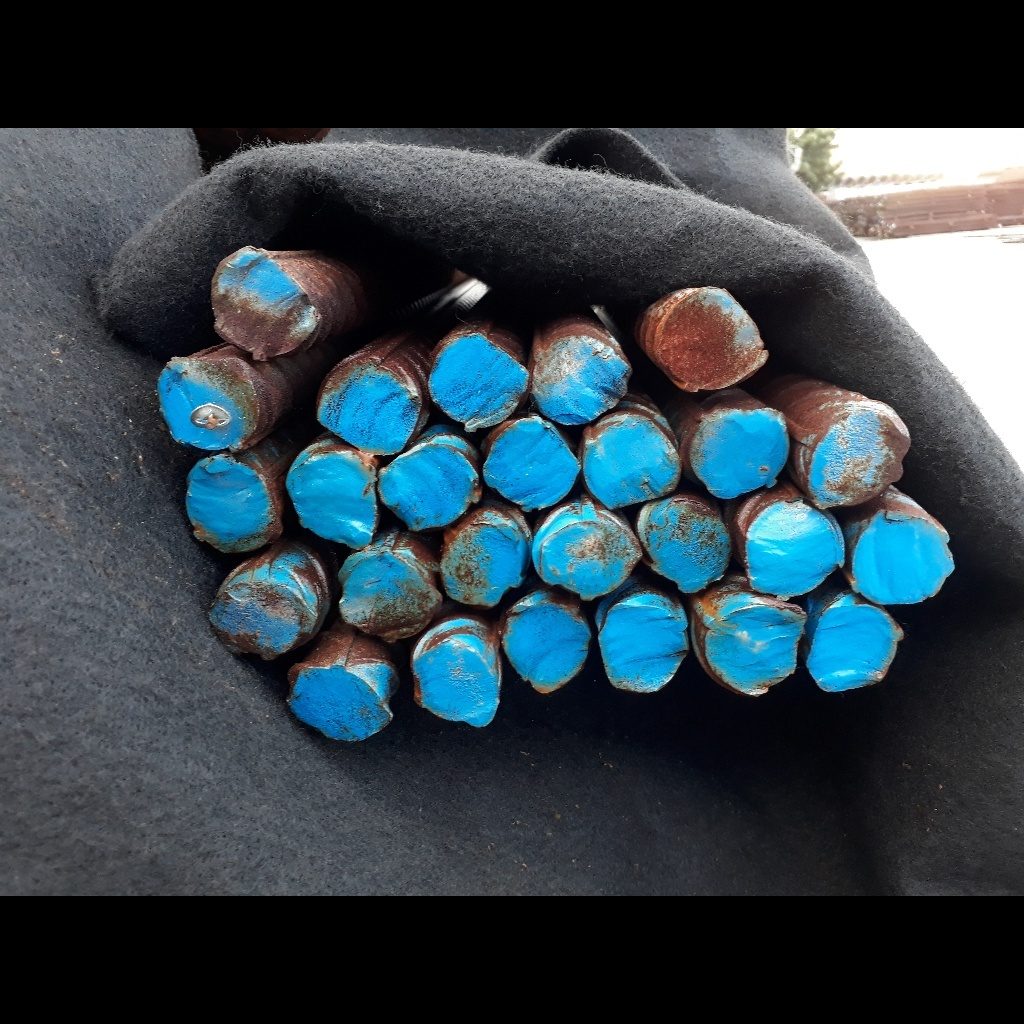dipstick: (207, 246, 319, 361), (656, 287, 770, 392), (803, 404, 913, 509), (530, 504, 642, 601), (151, 355, 261, 452), (849, 508, 955, 606), (745, 498, 846, 599), (428, 333, 530, 433), (581, 412, 684, 511), (687, 404, 794, 499), (501, 592, 597, 696), (480, 417, 586, 511), (338, 550, 445, 643), (318, 356, 418, 455), (806, 596, 907, 693), (438, 506, 532, 609), (634, 495, 733, 592), (529, 334, 632, 427), (599, 592, 691, 695), (703, 604, 801, 700), (182, 457, 280, 552), (287, 447, 375, 549), (378, 443, 475, 533), (206, 577, 307, 661), (290, 665, 395, 744)
